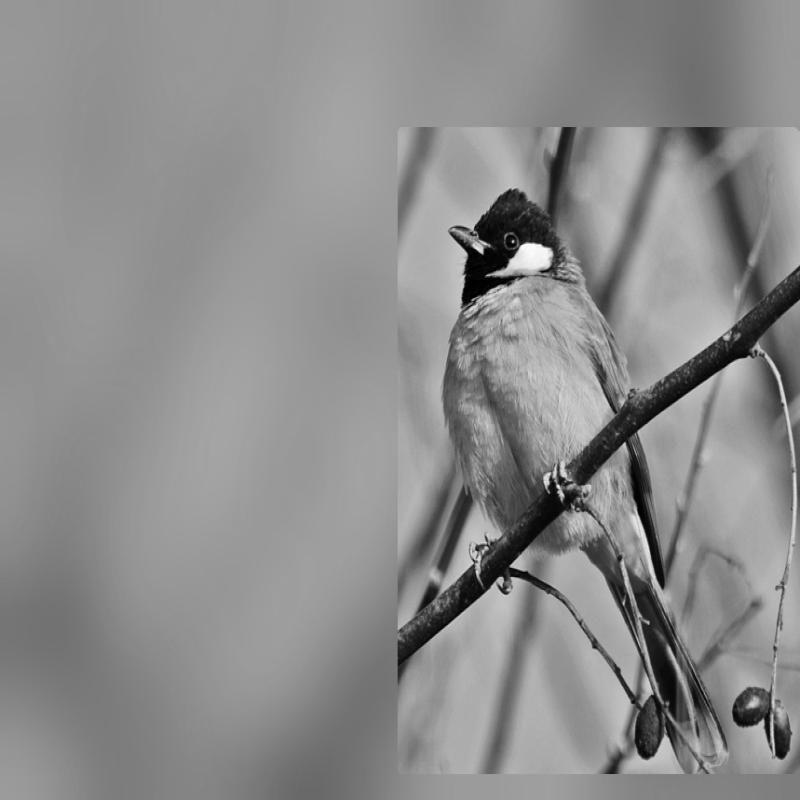white-eared bulbul: (438, 180, 731, 774)
